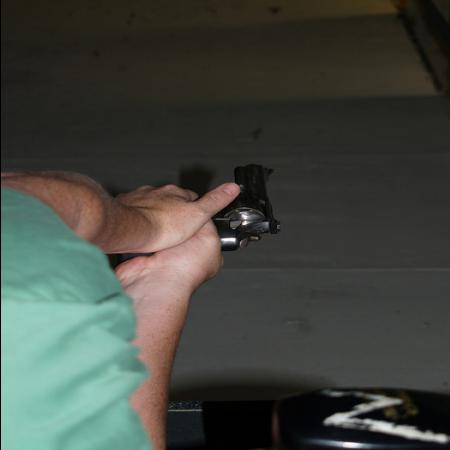Pistol: (116, 162, 288, 259)
